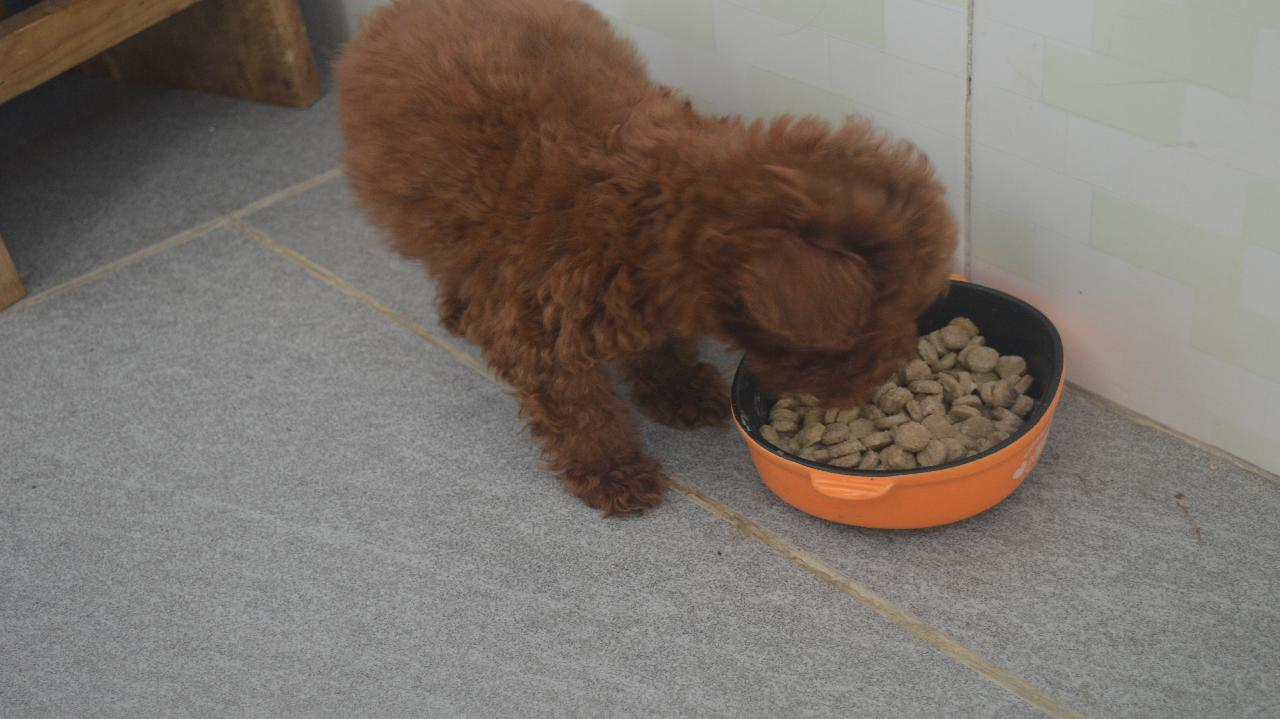coin: (328, 13, 960, 525)
